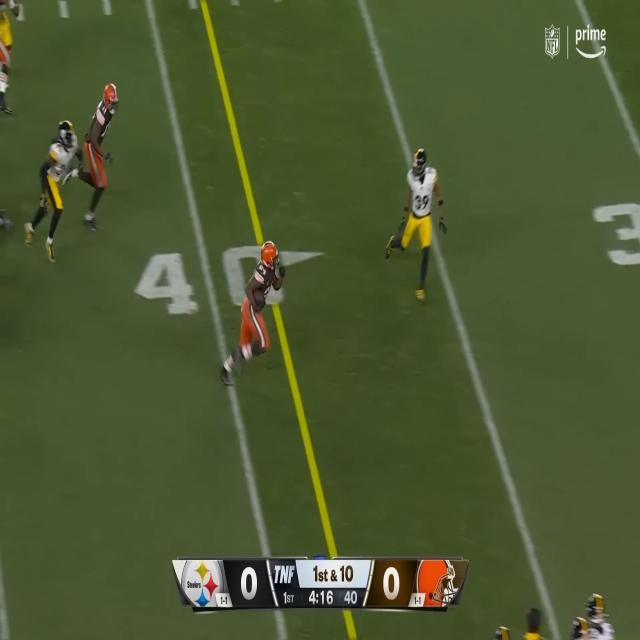football: (252, 288, 266, 307)
players: (384, 148, 447, 302), (221, 242, 286, 386), (26, 121, 84, 264), (64, 84, 118, 232)
